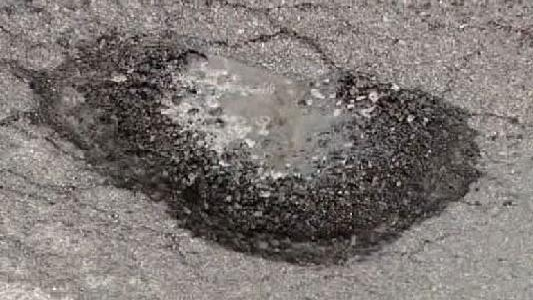pothole: (21, 28, 489, 274)
